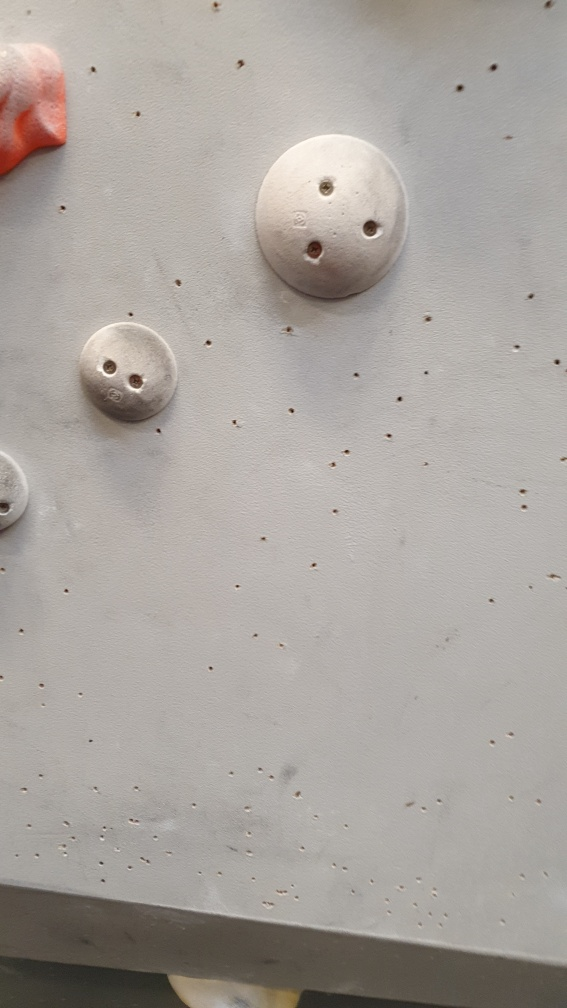Jug: (1, 32, 77, 188)
Sloper: (254, 130, 410, 299), (75, 320, 185, 427), (1, 452, 33, 539)
